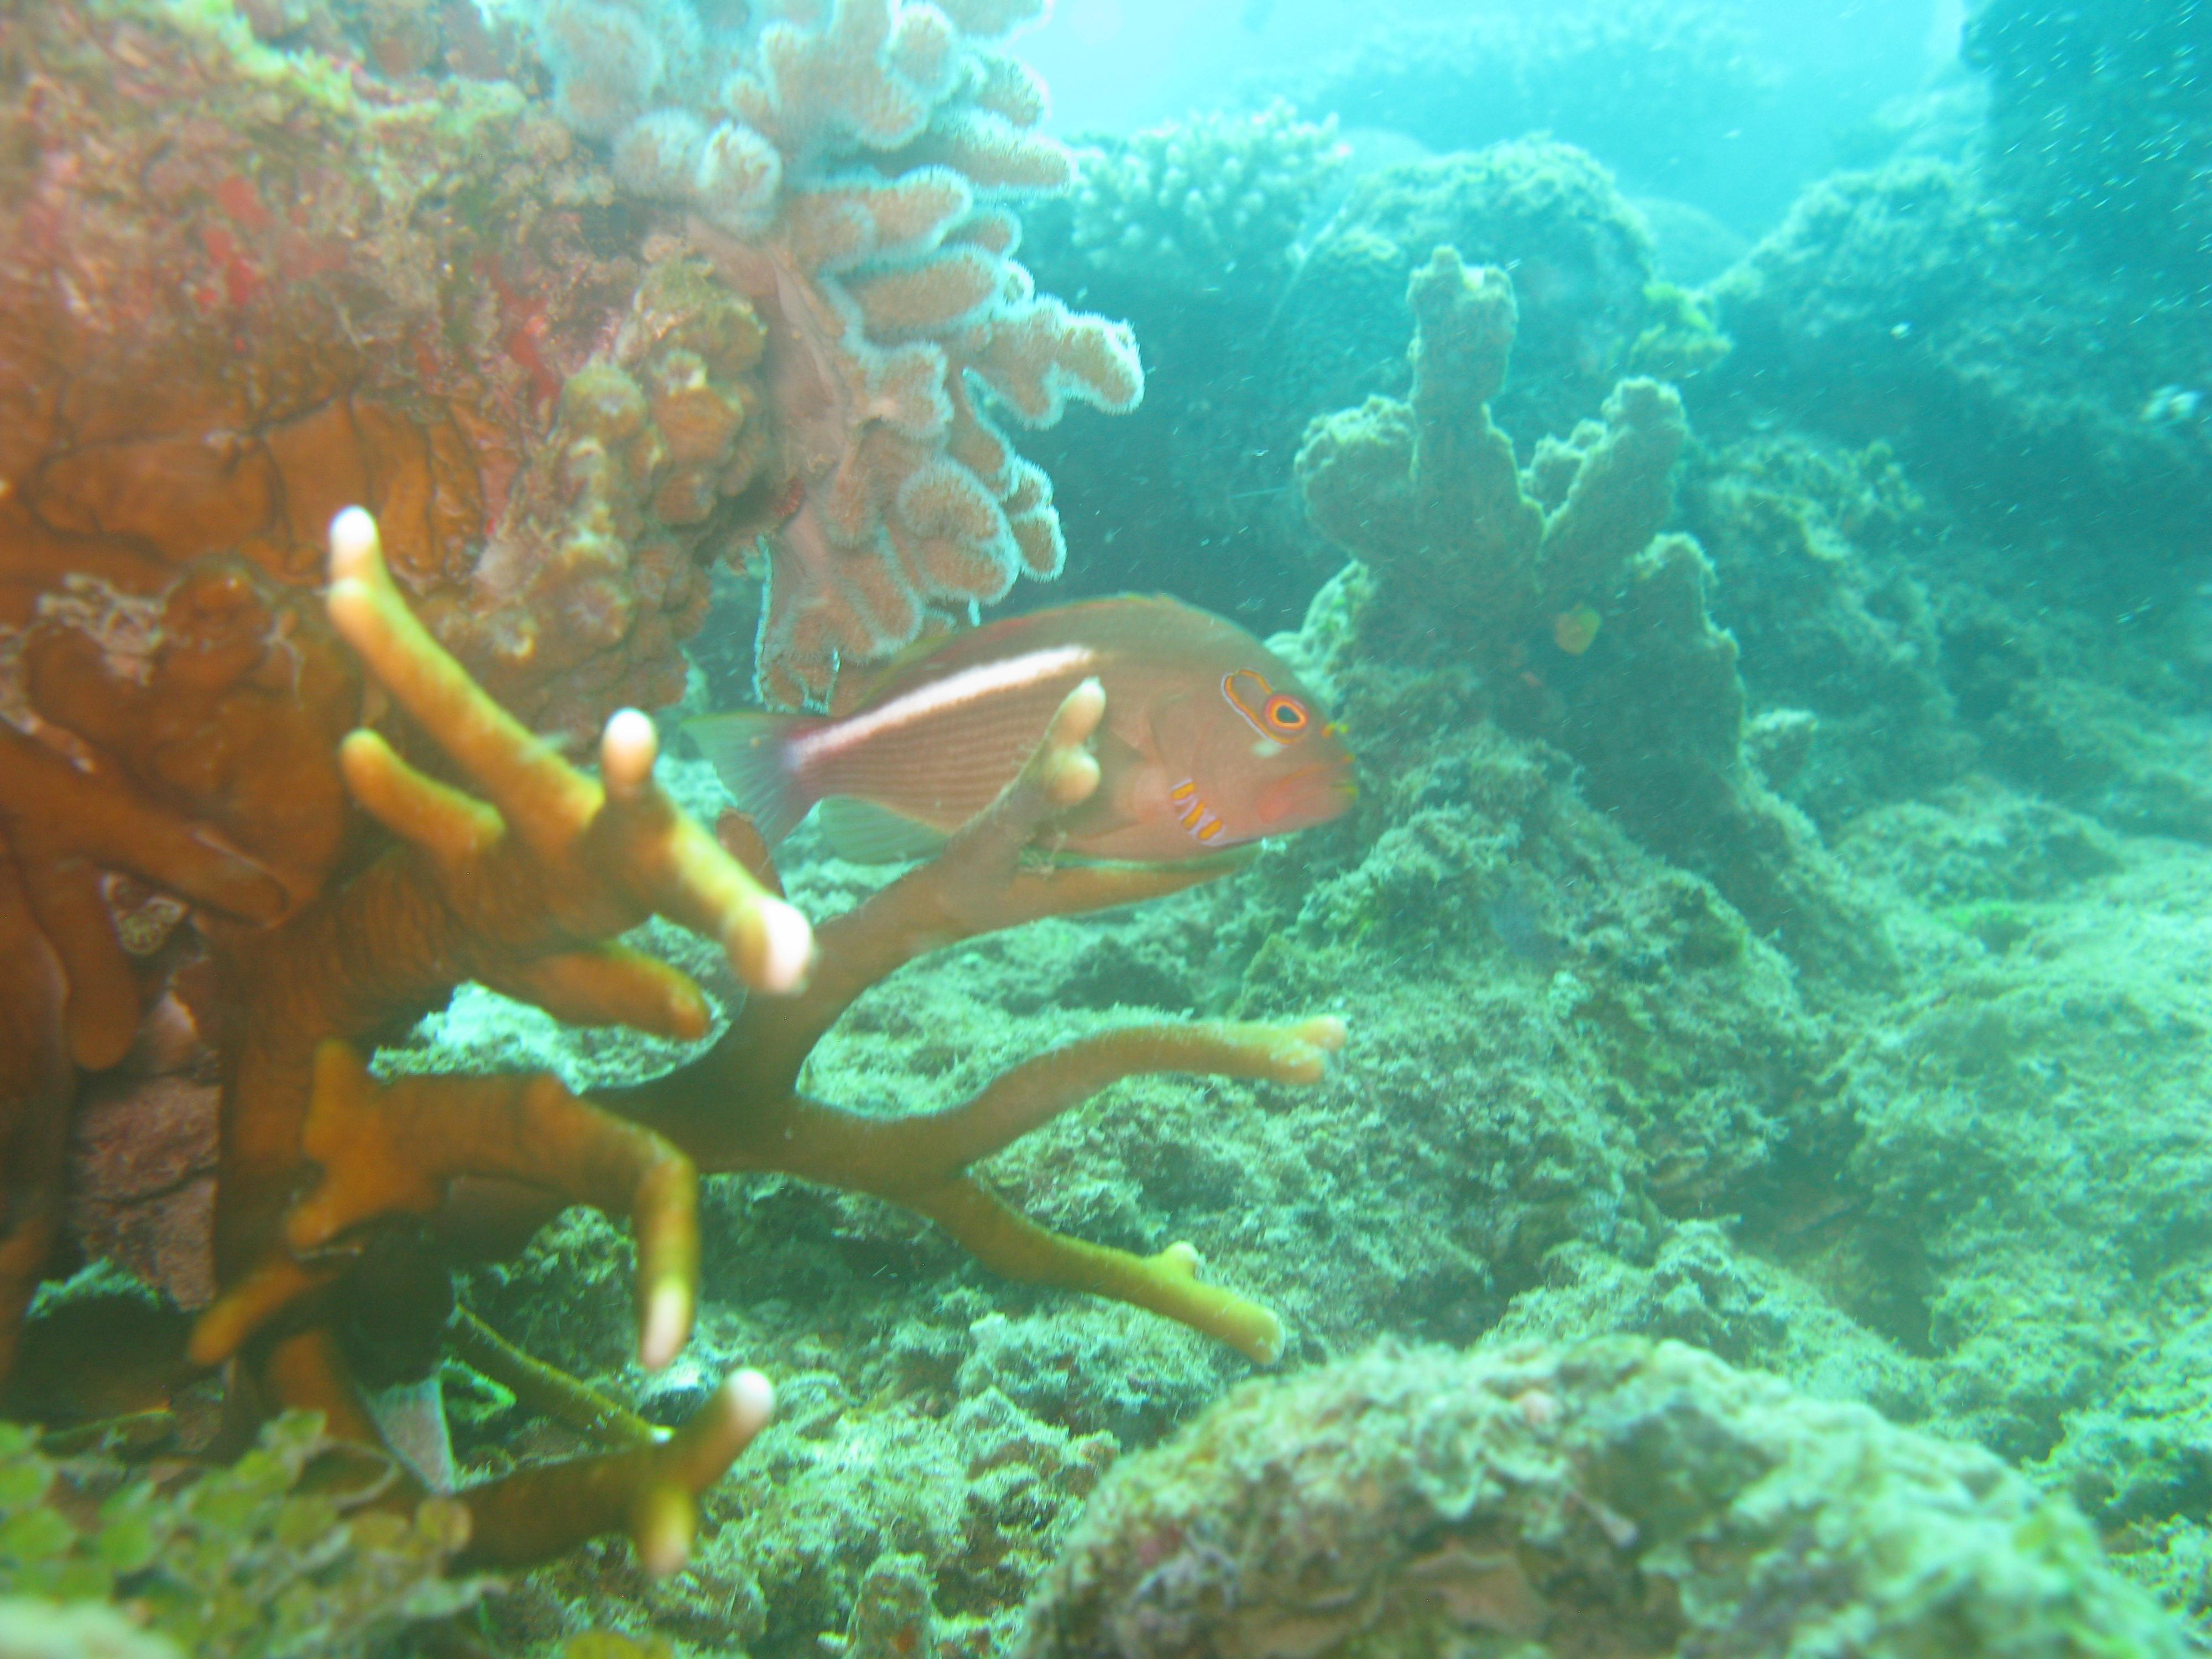Fish: (693, 502, 1388, 901)
